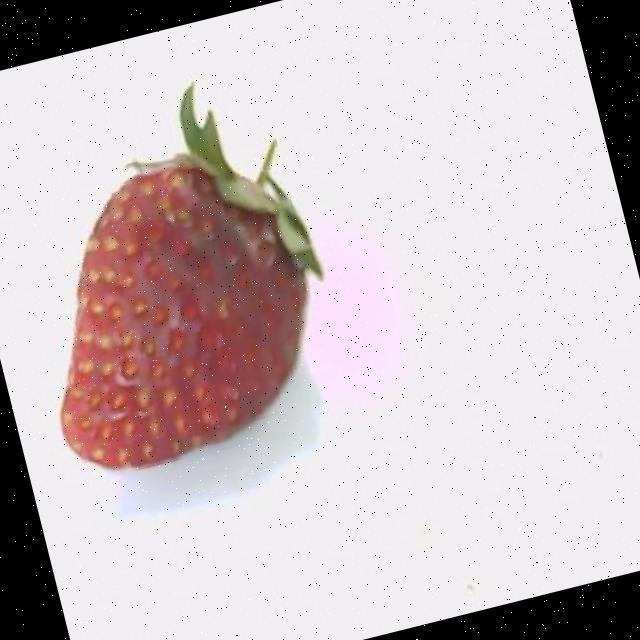strawberry: (61, 84, 322, 467)
